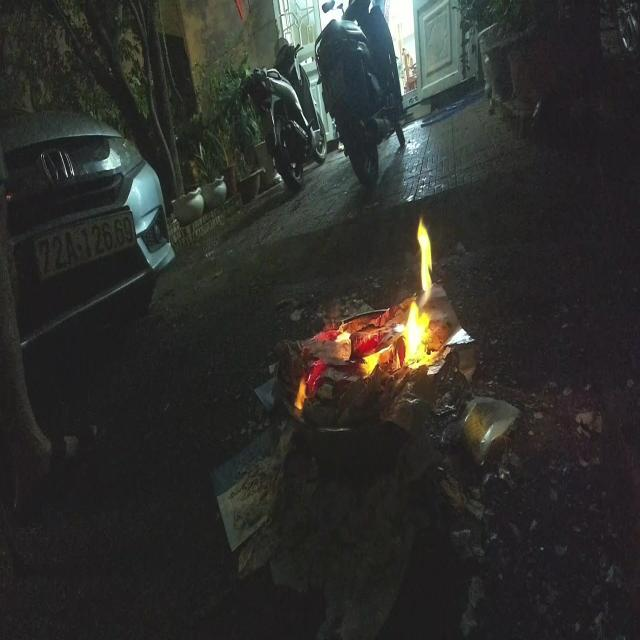Fire: (295, 212, 432, 410)
